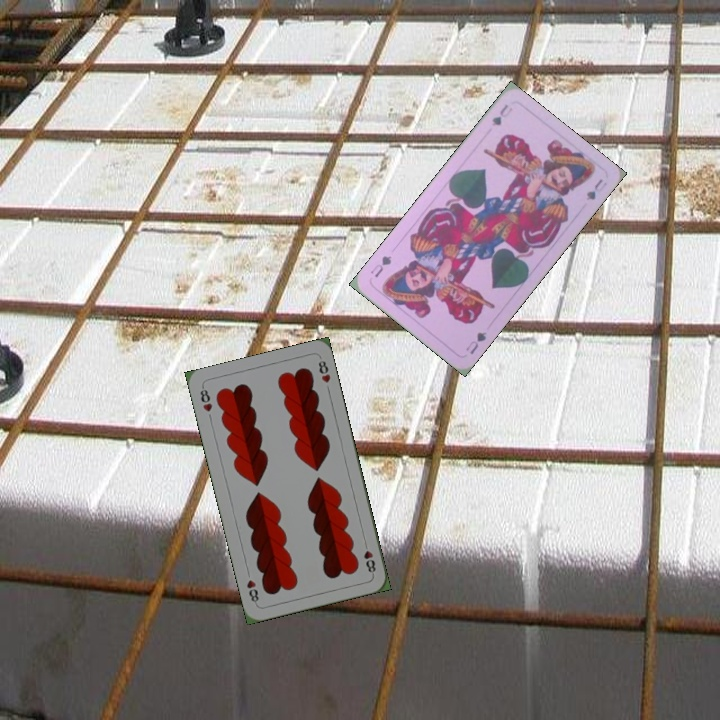GU: (462, 328, 489, 357), (488, 100, 515, 129)
H8: (360, 537, 378, 577), (196, 383, 215, 414)
